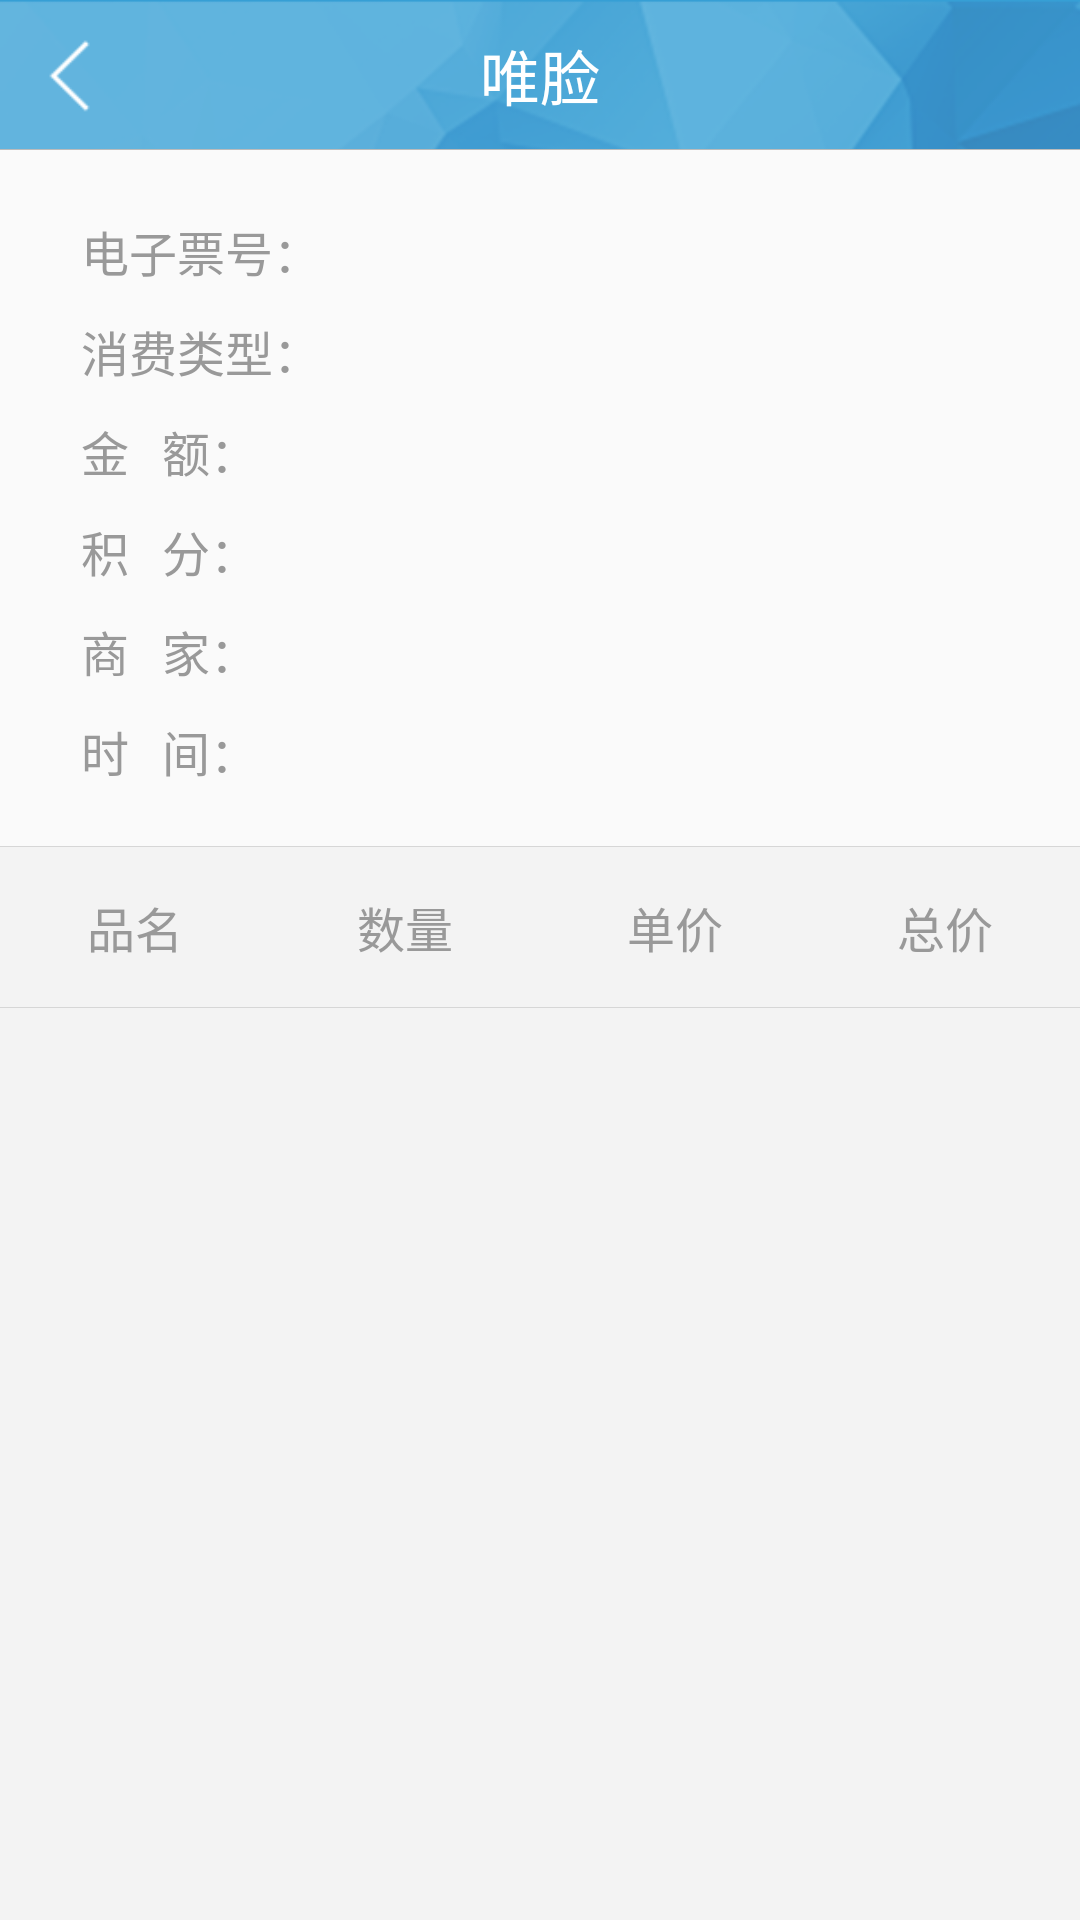

Point at icon controls on the screen. Image size 1080×1920, points as point (x, y).
back: point (69, 76)
